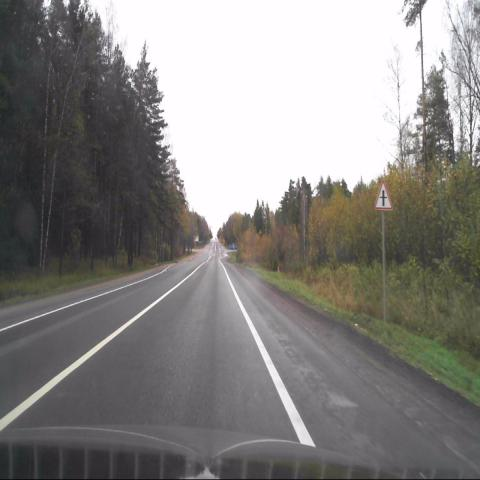2_3: (374, 180, 392, 212)
